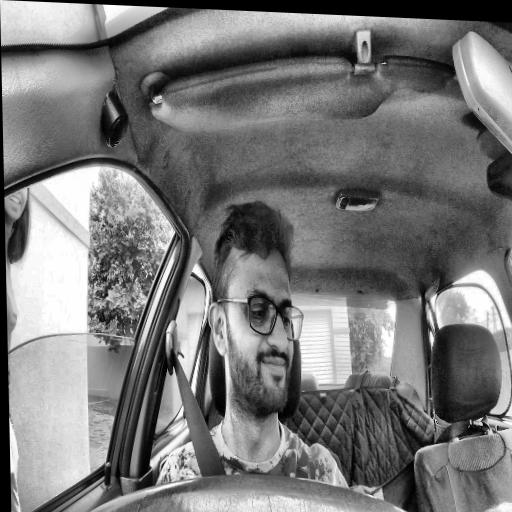awake: (205, 197, 307, 419)
